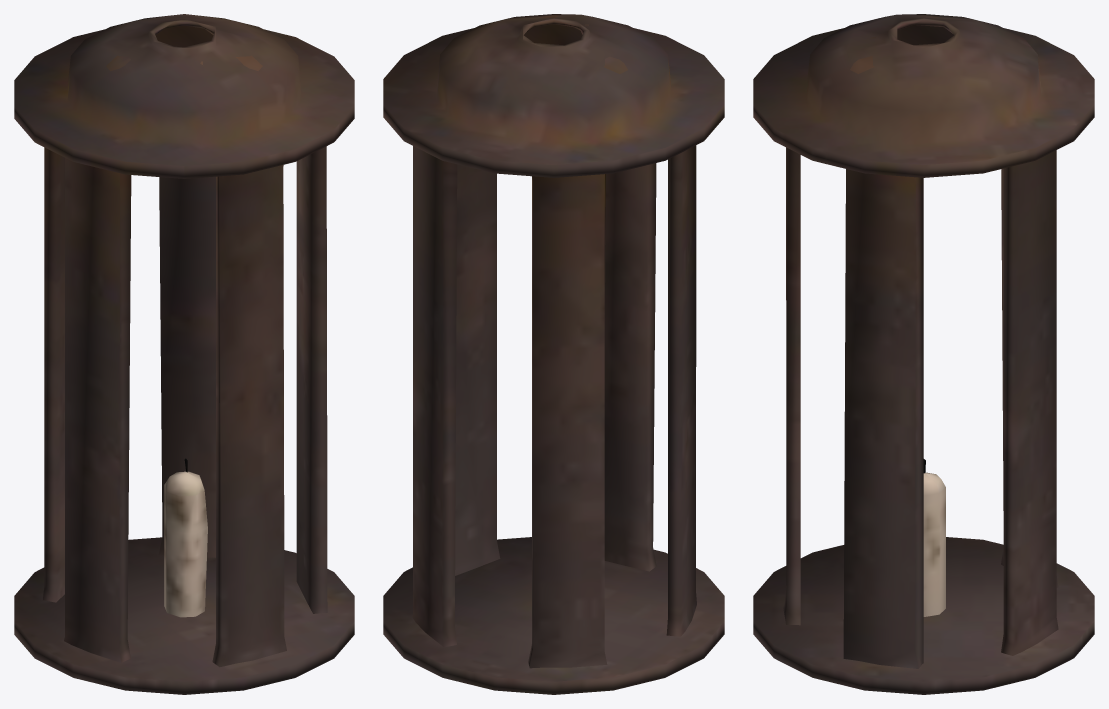
Rendered from lantern-iron.lod0.glb.
3 renders of one model, left to right at view 1: azimuth 30°, elevation 25°; view 2: azimuth 150°, elevation 25°; view 3: azimuth 270°, elevation 25°, orthographic.
Parts seen in each view (by area): view 1: Lantern_low_Material #1_0; view 2: Lantern_low_Material #1_0; view 3: Lantern_low_Material #1_0.
Part boxes in pixels (x1=…): Lantern_low_Material #1_0: x1=14, y1=14, x2=354, y2=694; Lantern_low_Material #1_0: x1=383, y1=14, x2=724, y2=694; Lantern_low_Material #1_0: x1=753, y1=14, x2=1094, y2=694.
Size of the model in its own units: 0.2934 by 0.55 by 0.2889.
Materials: 1 (1 with a texture image).
